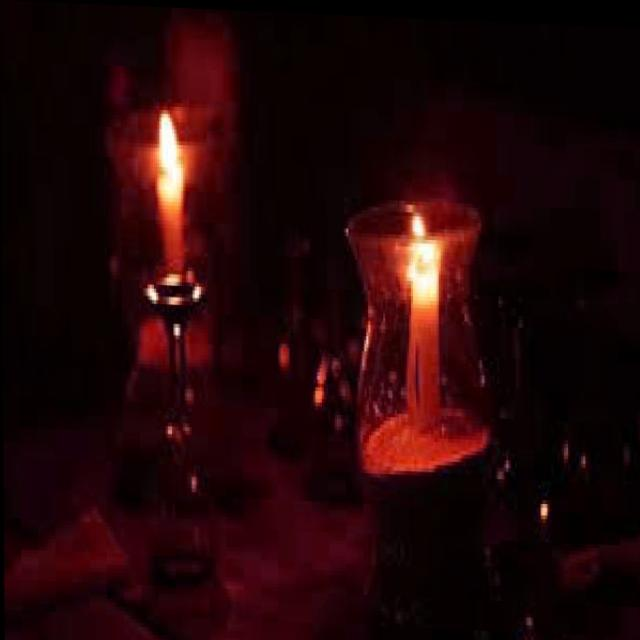fire: (151, 93, 185, 174), (401, 197, 438, 267)
